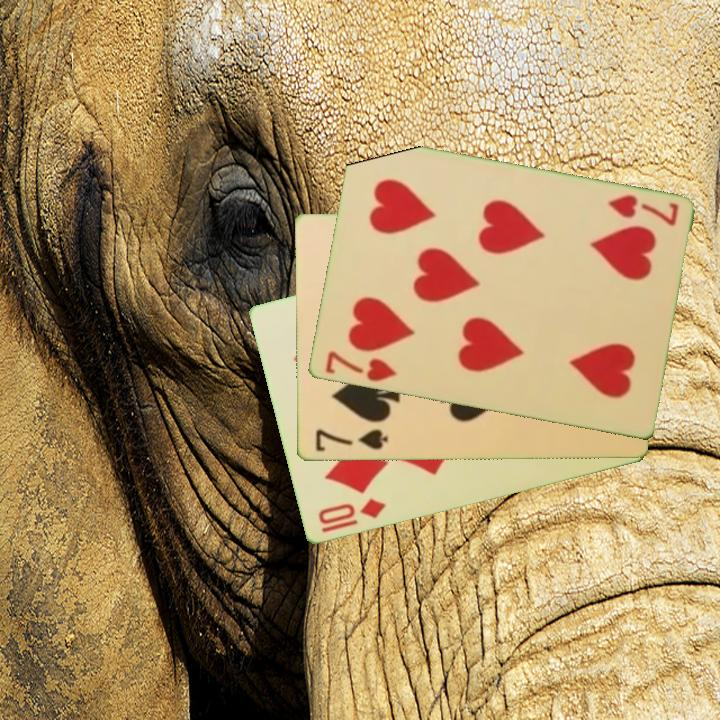10d: (314, 495, 389, 528)
7h: (321, 347, 399, 385), (604, 191, 681, 229)
7s: (311, 426, 390, 455)
